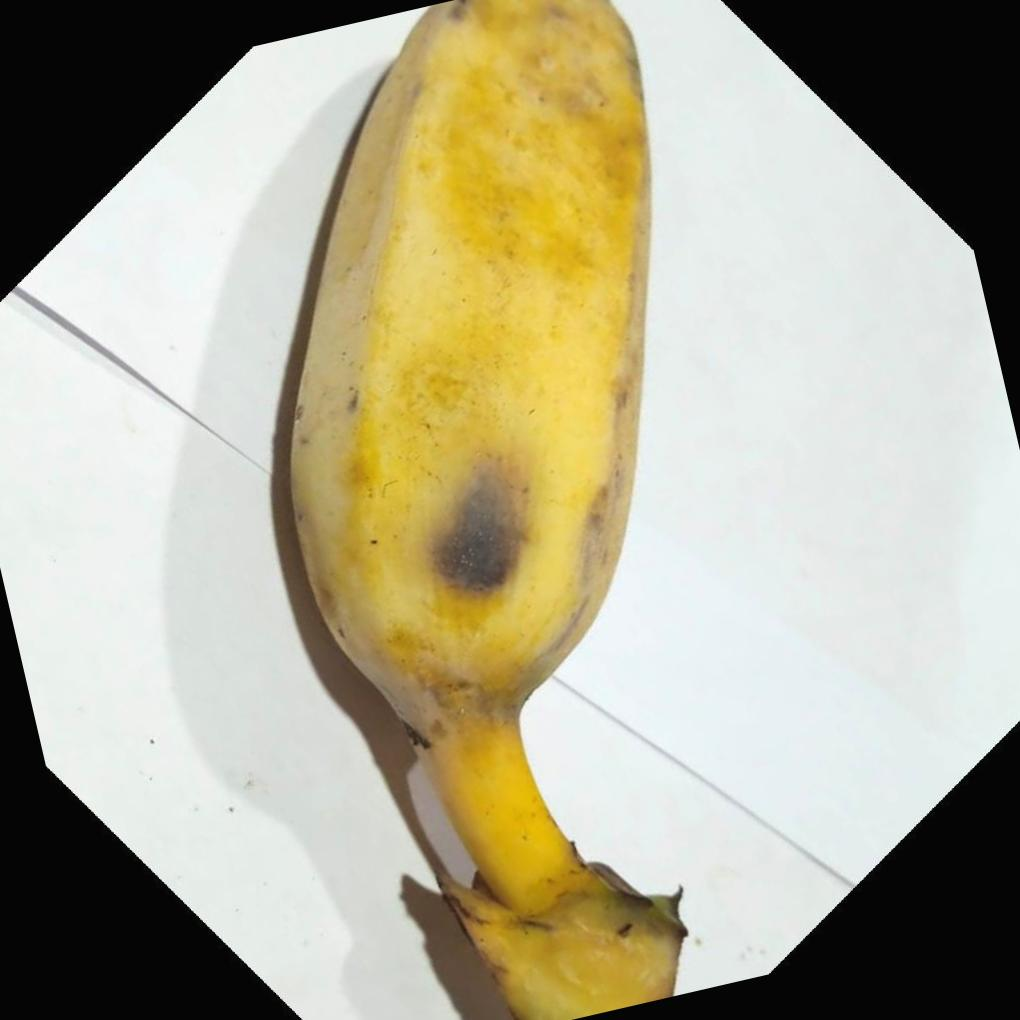Banana Ripe: (159, 0, 882, 1020)
